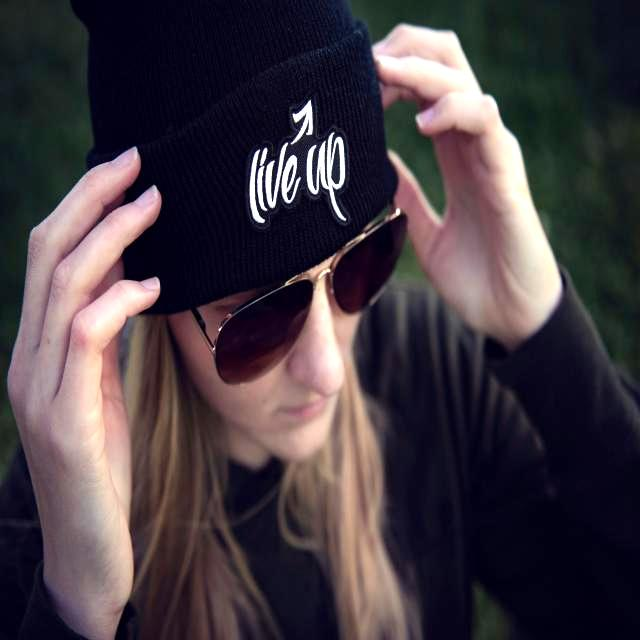no_hard_hat: (72, 0, 397, 314)
person: (10, 23, 640, 640)
